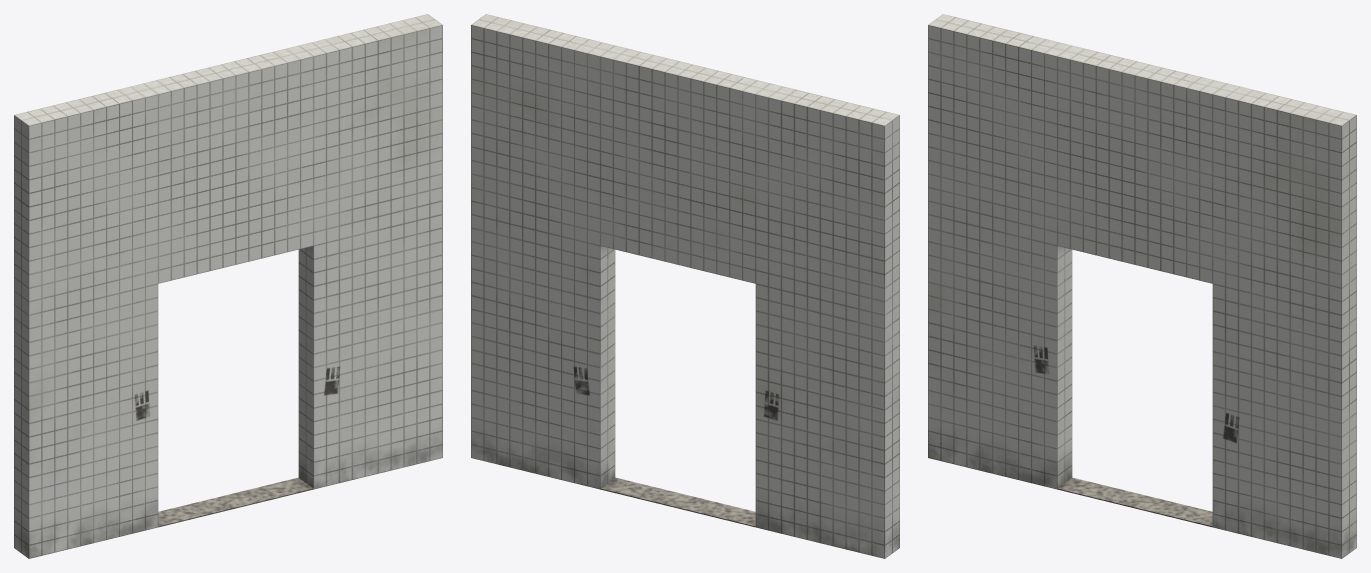
File: wall_tile_doorway.fbx
The picture shows the model from 3 angles, left to right: view 1: azimuth 30°, elevation 25°; view 2: azimuth 150°, elevation 25°; view 3: azimuth 330°, elevation 25°; orthographic projection.
Visible parts, largest first — view 1: Body; view 2: Body; view 3: Body.
Boxes of the visible parts, bbox=[...] form: Body: bbox=[14, 14, 442, 558]; Body: bbox=[471, 14, 899, 558]; Body: bbox=[928, 14, 1356, 558].
Size of the model in its own units: 16 by 16 by 1.
Materials: 1 (1 with a texture image).
